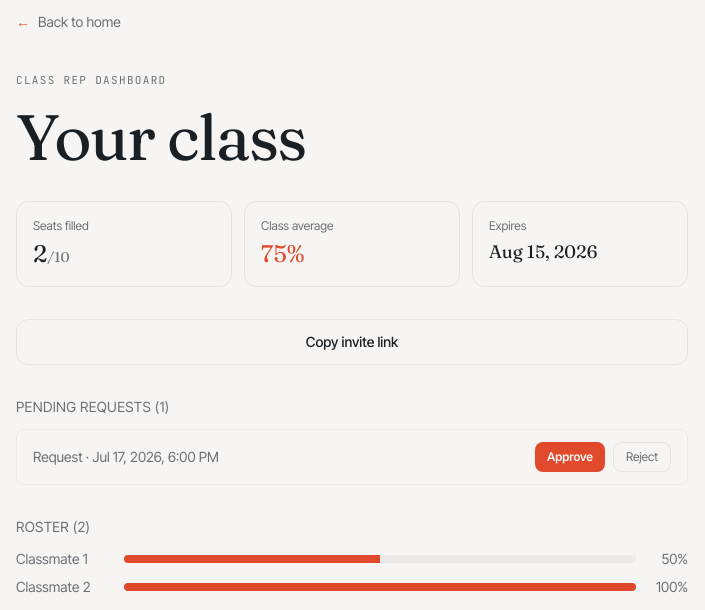
Test: RepDashboard › copies the invite link to the clipboard with the origin-based, UTM-tagged join URL
The image size is (705, 610).
Click the button "Copy invite link" at point(352, 342), box [16, 318, 688, 364]
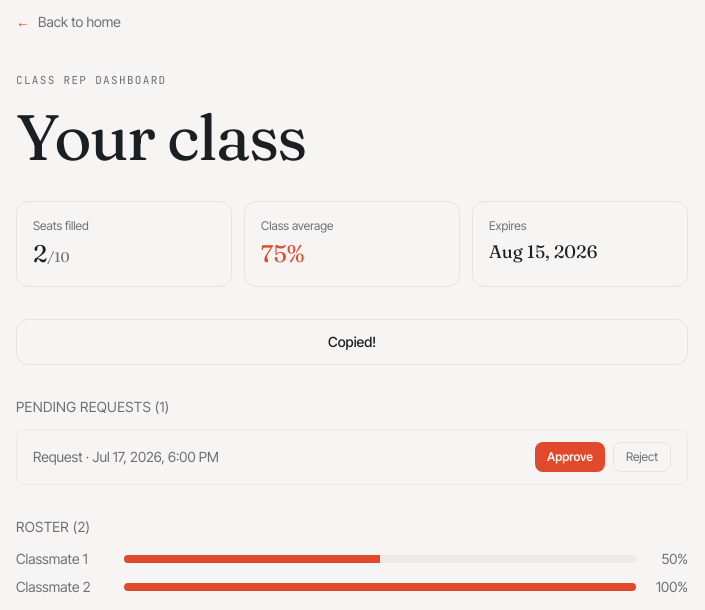
Expected: the button "Copied!" is shown, [16, 318, 688, 364]
